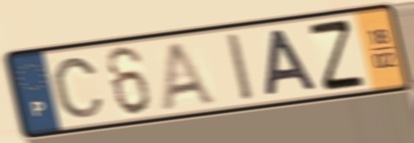6: (105, 44, 154, 119)
A: (158, 39, 221, 111), (263, 27, 321, 100)
C: (50, 55, 107, 121)
I: (223, 30, 257, 105)
Z: (305, 17, 368, 94)
